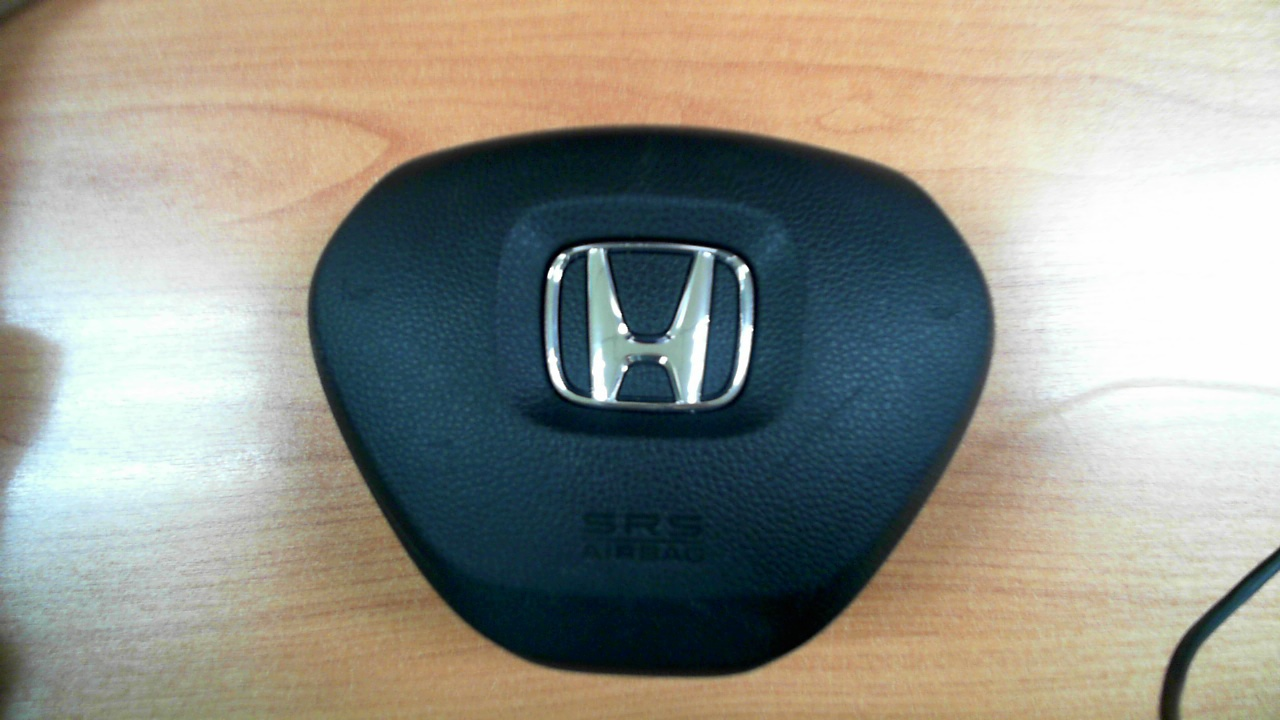Airbag: (306, 124, 996, 678)
Honda: (544, 241, 755, 405)
